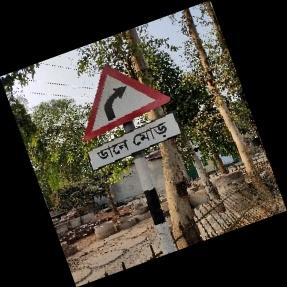Right-turn: (82, 65, 181, 173)
